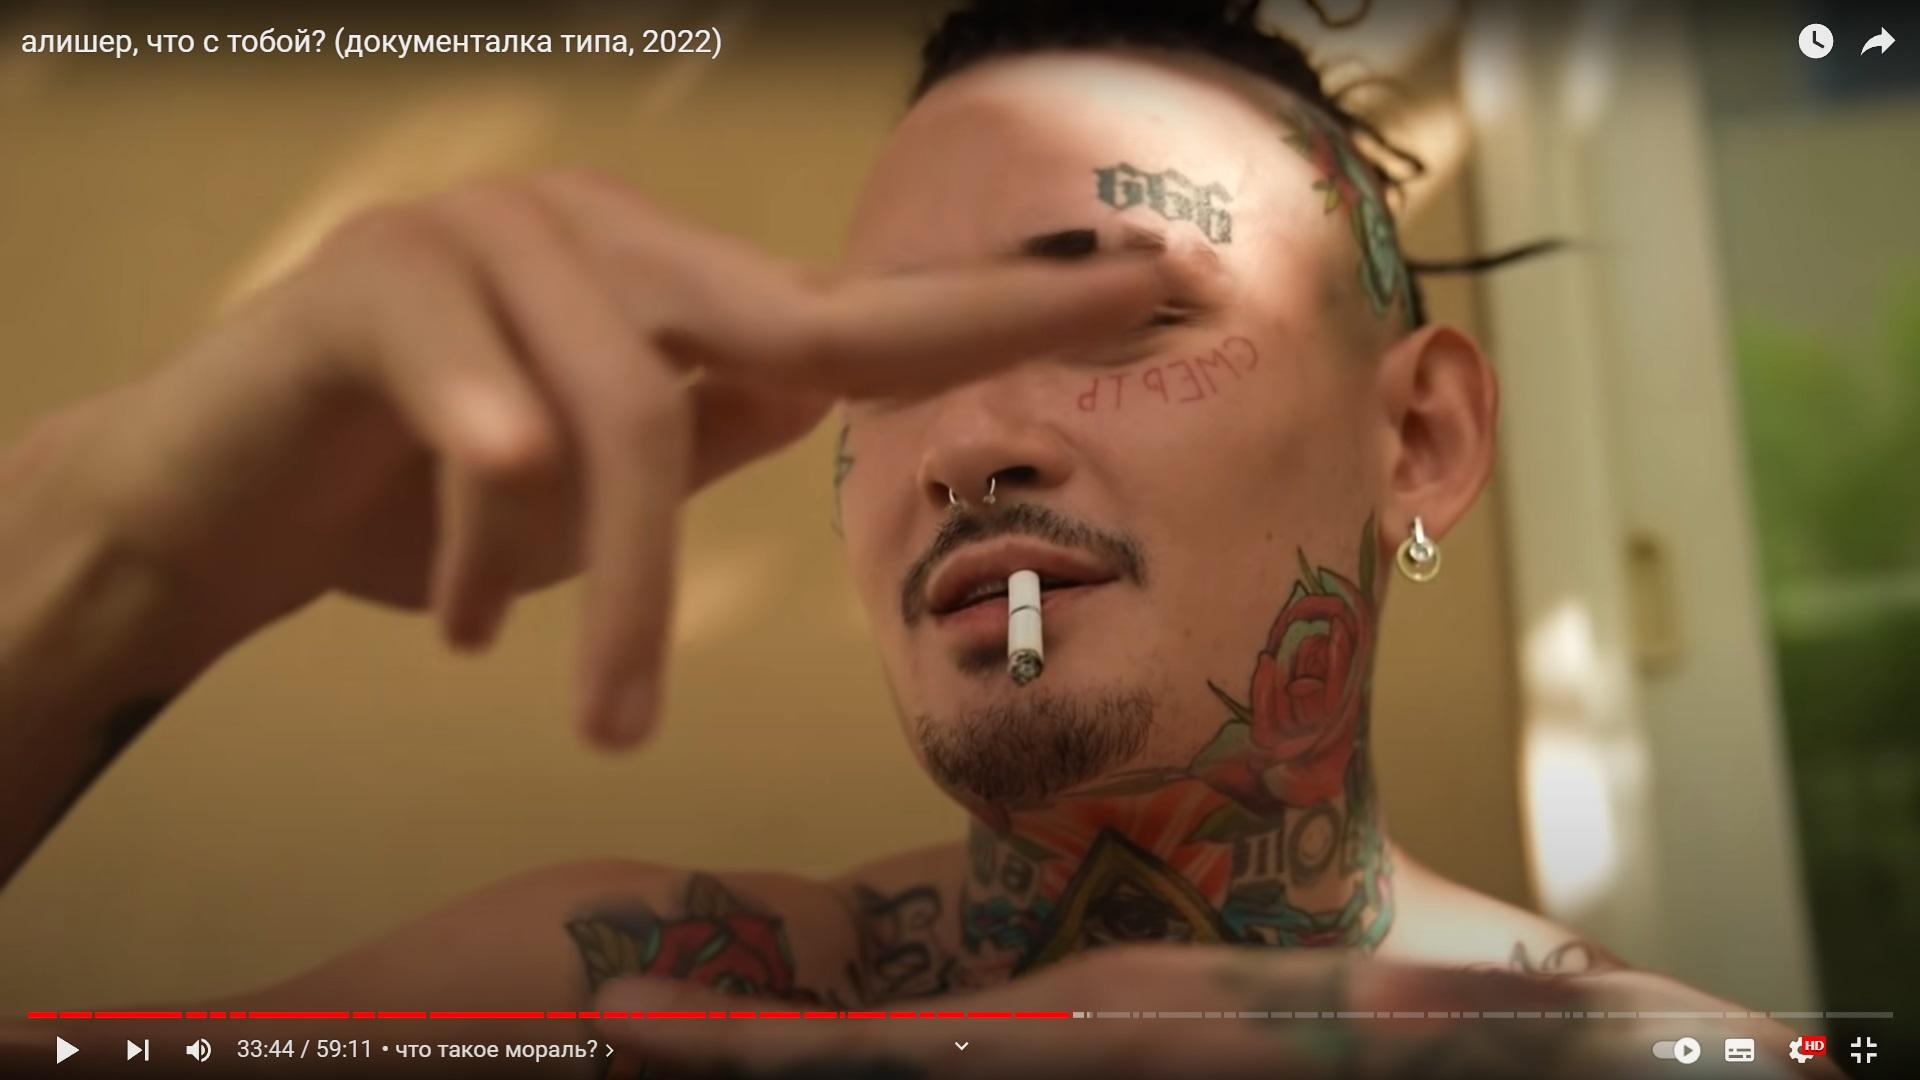cigarette: (1006, 567, 1044, 687)
